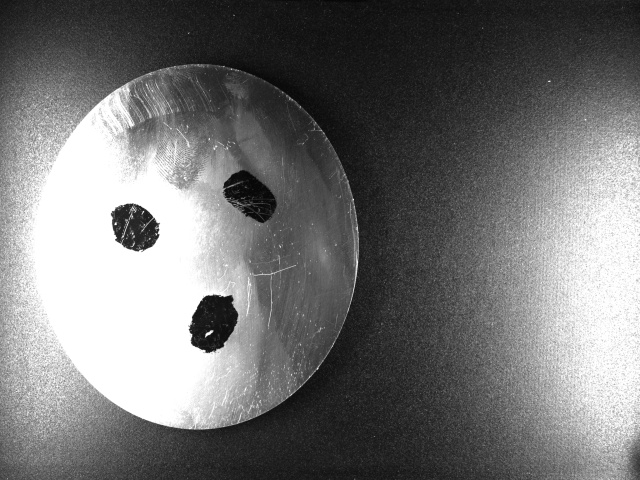zang_wu: (183, 292, 243, 357), (220, 168, 283, 227), (108, 203, 164, 251)
